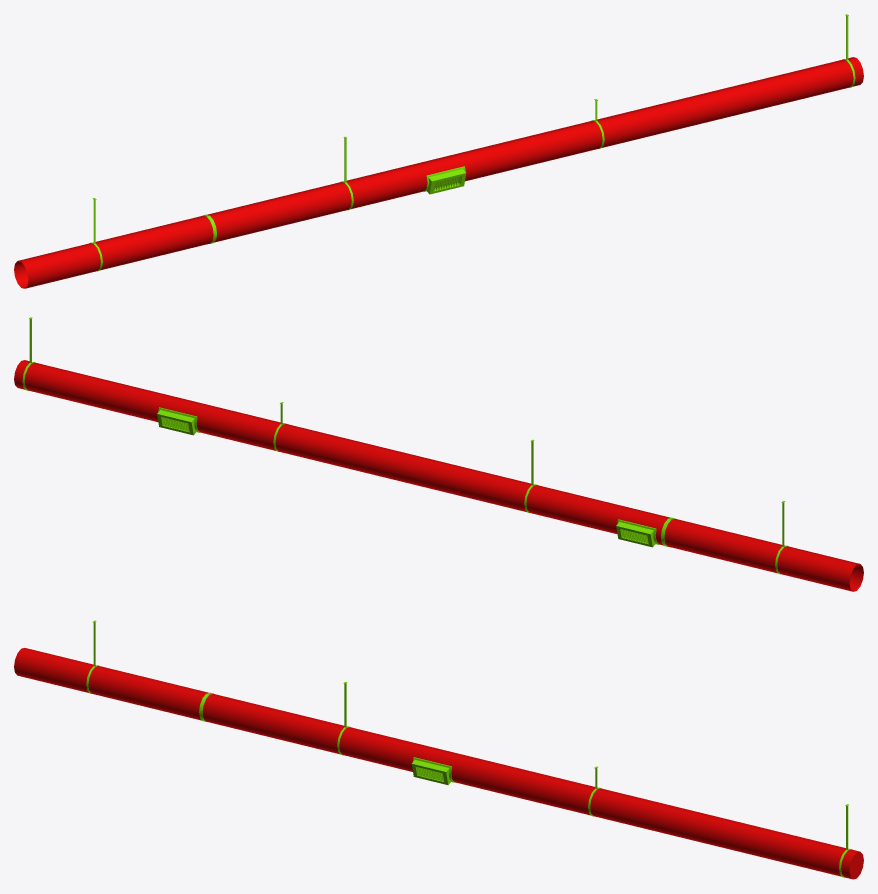
The model's file is DuctPipeB.fbx.
The picture shows the model from 3 angles, top to bottom: view 1: azimuth 30°, elevation 25°; view 2: azimuth 150°, elevation 25°; view 3: azimuth 330°, elevation 25°; orthographic projection.
Parts seen in each view (by area): view 1: DuctPipeB; view 2: DuctPipeB; view 3: DuctPipeB.
Part boxes in pixels (x1=…): DuctPipeB: x1=14, y1=14, x2=863, y2=288; DuctPipeB: x1=14, y1=317, x2=863, y2=591; DuctPipeB: x1=14, y1=620, x2=863, y2=879.
Bounding box in the file's own units: 1701 × 139 × 71.17.
